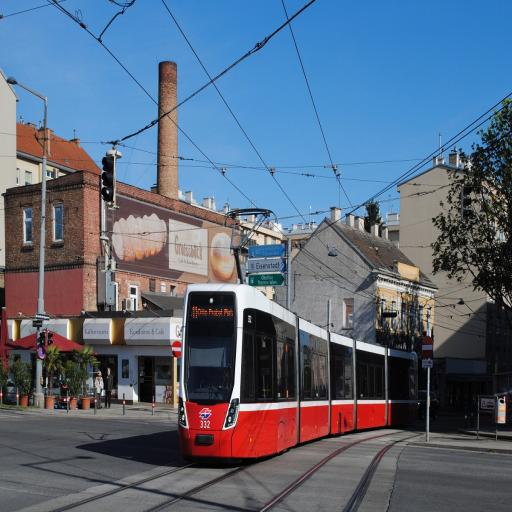Flexity: (175, 282, 419, 460)
